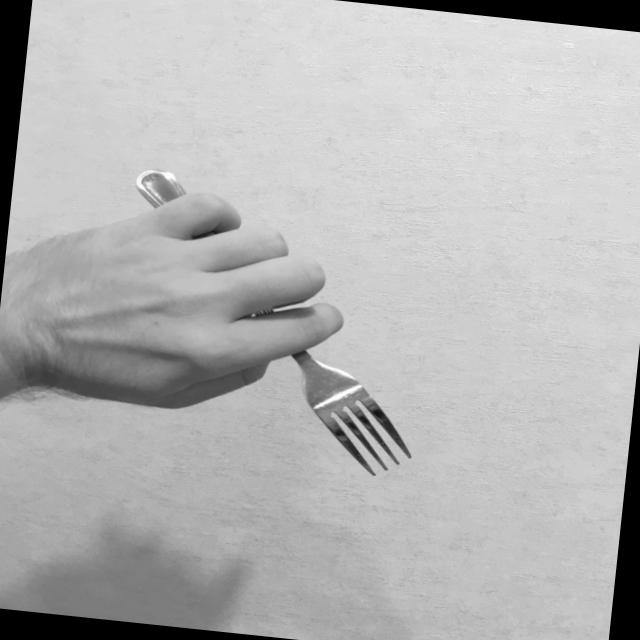fork: (108, 167, 440, 480)
